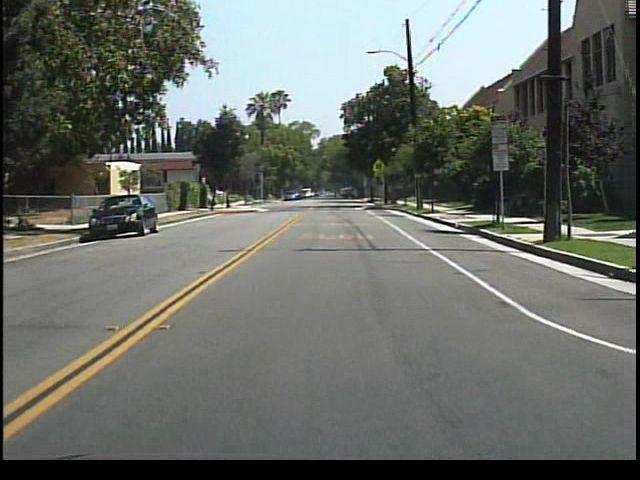person: (327, 185, 341, 203)
